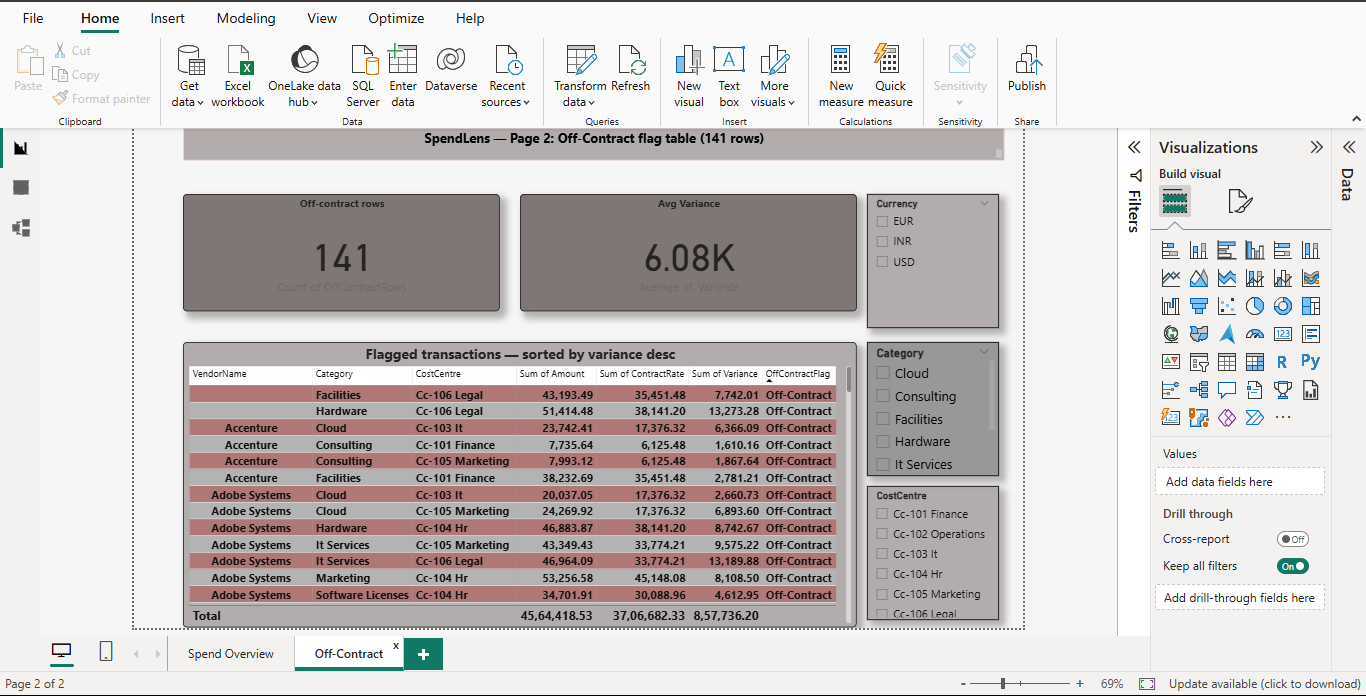

What the dashboard file says about the page in this screenshot:
{"tool":"powerbi","page":{"name":"Off-Contract","canvas":[1280,720],"ordinal":1},"visuals":[{"type":"tableEx","title":"Flagged transactions — sorted by variance desc","fields":{"Values":["ap_transactions.VendorName","ap_transactions.Category","ap_transactions.CostCentre","Sum(ap_transactions.Amount)","Sum(ap_transactions.ContractRate)","Sum(ap_transactions. Variance)","ap_transactions.OffContractFlag"]},"box":[70.5,308.7,969.6,411],"z":0},{"type":"card","title":"Off-contract rows","fields":{"Values":["CountNonNull(ap_transactions.OffContractRows)"]},"box":[70.5,95.6,456.3,169.4],"z":1000},{"type":"card","title":"Avg Variance","fields":{"Values":["Avg(ap_transactions. Variance)"]},"box":[555.3,95.6,484.8,169.4],"z":2000},{"type":"slicer","title":"Spend by category","fields":{"Values":["ap_transactions.Currency"]},"box":[1055.2,95.6,189.6,192.9],"z":3000},{"type":"slicer","title":"Spend by category","fields":{"Values":["ap_transactions.Category"]},"box":[1055.2,308.7,189.6,192.9],"z":4000},{"type":"slicer","title":"Spend by category","fields":{"Values":["ap_transactions.CostCentre"]},"box":[1055.5,515.5,190.1,193],"z":5000},{"type":"textbox","title":"SpendMap — Page 2: Off-Contract flag table (141 rows)","box":[70.5,0,1182.7,47],"z":6000}]}

Visuals, with their boxes on the page's 1280x720 design canvas (x1, y1, x2, y2). These are canvas units, not pixel positions in the 1366x696 screenshot, which may show the page scaled, cropped or inside an application window:
"Flagged transactions — sorted by variance desc" tableEx: (left=70, top=309, right=1040, bottom=720)
"Off-contract rows" card: (left=70, top=96, right=527, bottom=265)
"Avg Variance" card: (left=555, top=96, right=1040, bottom=265)
"Spend by category" slicer: (left=1055, top=96, right=1245, bottom=288)
"Spend by category" slicer: (left=1055, top=309, right=1245, bottom=502)
"Spend by category" slicer: (left=1056, top=516, right=1246, bottom=708)
"SpendMap — Page 2: Off-Contract flag table (141 rows)" textbox: (left=70, top=0, right=1253, bottom=47)
